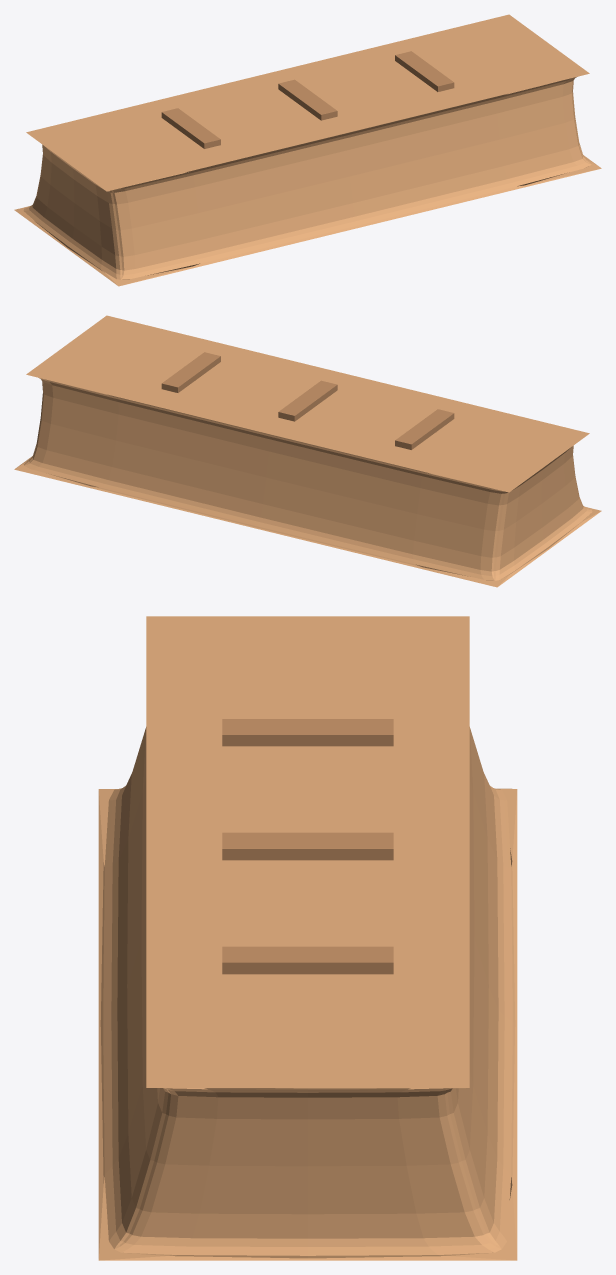
Rendered from 16-Crafting_lingote_metal.glb.
The picture shows the model from 3 angles, top to bottom: view 1: azimuth 30°, elevation 25°; view 2: azimuth 150°, elevation 25°; view 3: azimuth 270°, elevation 25°; orthographic projection. The views are drawn at different scales.
Parts seen in each view (by area): view 1: SM_Lingote_Cuerpo, SM_Lingote_Marca_1, SM_Lingote_Marca_2, SM_Lingote_Marca_3; view 2: SM_Lingote_Cuerpo, SM_Lingote_Marca_1, SM_Lingote_Marca_2, SM_Lingote_Marca_3; view 3: SM_Lingote_Cuerpo, SM_Lingote_Marca_2, SM_Lingote_Marca_3, SM_Lingote_Marca_1.
Boxes of the visible parts, x1=… form: SM_Lingote_Cuerpo: x1=14, y1=14, x2=601, y2=286; SM_Lingote_Marca_1: x1=161, y1=108, x2=220, y2=148; SM_Lingote_Marca_2: x1=278, y1=79, x2=337, y2=120; SM_Lingote_Marca_3: x1=395, y1=51, x2=454, y2=91; SM_Lingote_Cuerpo: x1=14, y1=315, x2=601, y2=587; SM_Lingote_Marca_1: x1=395, y1=409, x2=454, y2=449; SM_Lingote_Marca_2: x1=278, y1=380, x2=337, y2=421; SM_Lingote_Marca_3: x1=161, y1=352, x2=220, y2=392; SM_Lingote_Cuerpo: x1=98, y1=616, x2=517, y2=1260; SM_Lingote_Marca_2: x1=222, y1=832, x2=393, y2=860; SM_Lingote_Marca_3: x1=222, y1=946, x2=393, y2=974; SM_Lingote_Marca_1: x1=222, y1=719, x2=393, y2=746.
Size of the model in its own units: 0.352 by 0.064 by 0.132.
